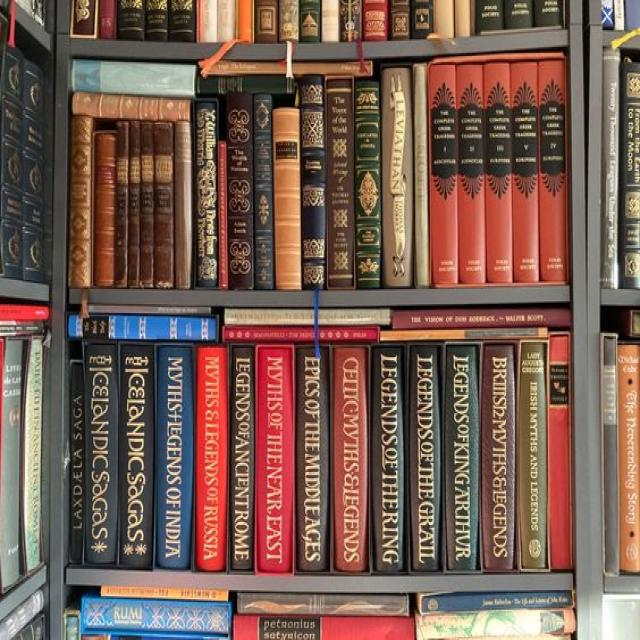book: (330, 347, 371, 574), (256, 344, 294, 574), (155, 343, 193, 571), (81, 341, 119, 566), (294, 344, 331, 574), (445, 346, 482, 572), (408, 345, 444, 573), (119, 343, 154, 569), (482, 344, 516, 571), (372, 348, 406, 573), (195, 344, 228, 571), (518, 340, 550, 572), (382, 64, 414, 289), (538, 62, 567, 282), (82, 596, 230, 638), (326, 76, 355, 288), (230, 342, 255, 572), (512, 63, 538, 282), (355, 81, 381, 290), (228, 93, 255, 290), (550, 332, 572, 570), (618, 342, 640, 576), (273, 110, 301, 290), (193, 102, 218, 289), (416, 610, 576, 639), (620, 62, 640, 287), (303, 76, 324, 289), (602, 48, 620, 288), (233, 616, 412, 640), (75, 60, 195, 95), (602, 334, 619, 574), (66, 313, 217, 340), (254, 96, 274, 291), (394, 308, 574, 329), (236, 593, 406, 615), (414, 64, 430, 288), (69, 116, 90, 286), (92, 132, 115, 286), (73, 94, 191, 121), (174, 122, 192, 288), (156, 123, 171, 290), (226, 310, 391, 325), (68, 361, 80, 564), (220, 327, 380, 342), (140, 122, 154, 289), (204, 62, 372, 74), (115, 121, 127, 288), (128, 120, 139, 290), (198, 76, 294, 94)
